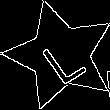L_NW: (32, 26, 88, 85)
